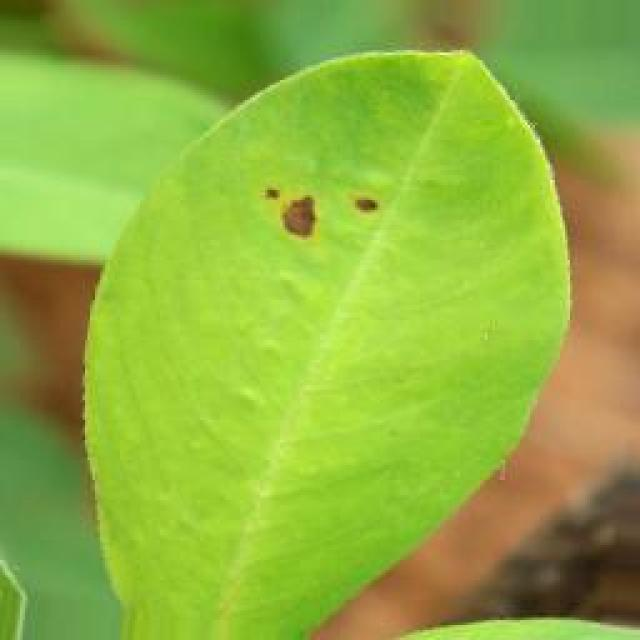Sigatoka: (204, 157, 405, 266)
